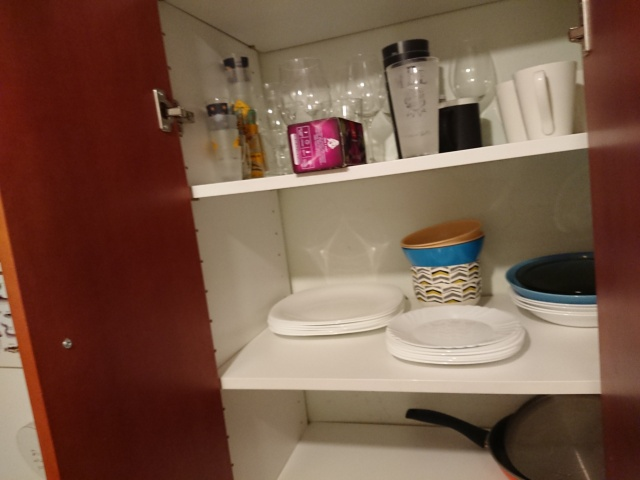Franck Black Currant Tea 60g: (285, 115, 369, 175)
